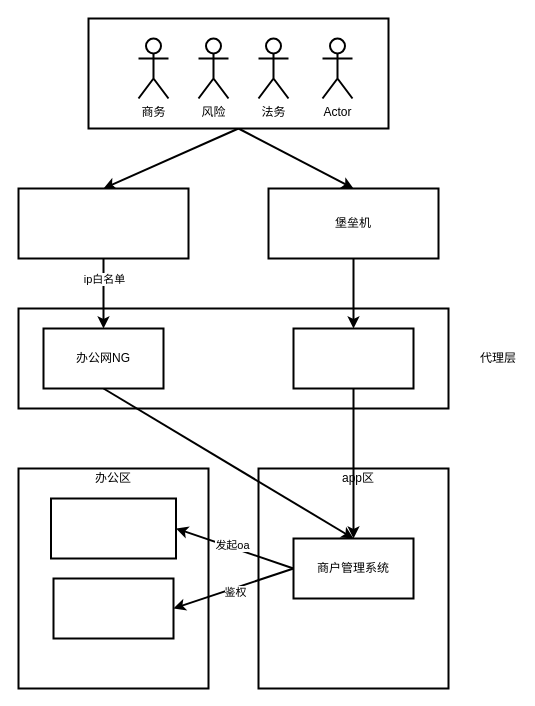
The diagram is 535 pixels wide and 706 high, and some of its shapes have lost their labels. Here are the shapes that lost their labels. From the top down, the centre of each, then its label:
At point 103,223: "办公网".
At point 353,358: "CCNG".
At point 113,528: "OA".
At point 113,608: "办公门户".
